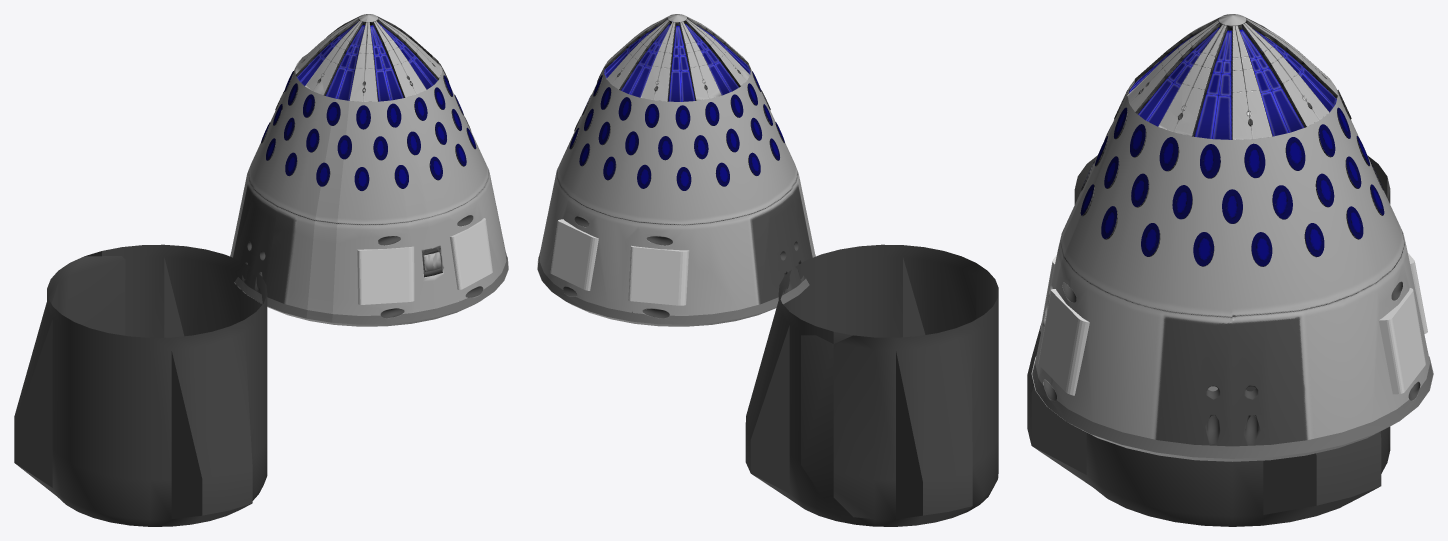
The model's file is coloniallander5.fbx.
3 views of the same model, side by side, from view 1: azimuth 30°, elevation 25°; view 2: azimuth 150°, elevation 25°; view 3: azimuth 270°, elevation 25° (orthographic). The views are drawn at different scales.
Visible parts, largest first — view 1: Cone.000, ColonialLander, Cube.001, Cube; view 2: Cone.000, ColonialLander, Cube.001; view 3: ColonialLander, Cone.000, Cube.001, Cube, ShieldChar.
Part boxes in pixels (x1,y1,x2,y2): Cone.000: (14, 244, 267, 526); ColonialLander: (230, 14, 508, 324); Cube.001: (357, 246, 414, 304); Cube: (450, 218, 492, 289); Cone.000: (745, 244, 998, 526); ColonialLander: (537, 14, 815, 324); Cube.001: (550, 219, 689, 305); ColonialLander: (1032, 14, 1432, 458); Cone.000: (1027, 155, 1390, 526); Cube.001: (1040, 253, 1427, 394); Cube: (1038, 289, 1089, 395); ShieldChar: (1031, 356, 1433, 461).
Size of what is drawn, in the model's own units: 959 by 853 by 528.
